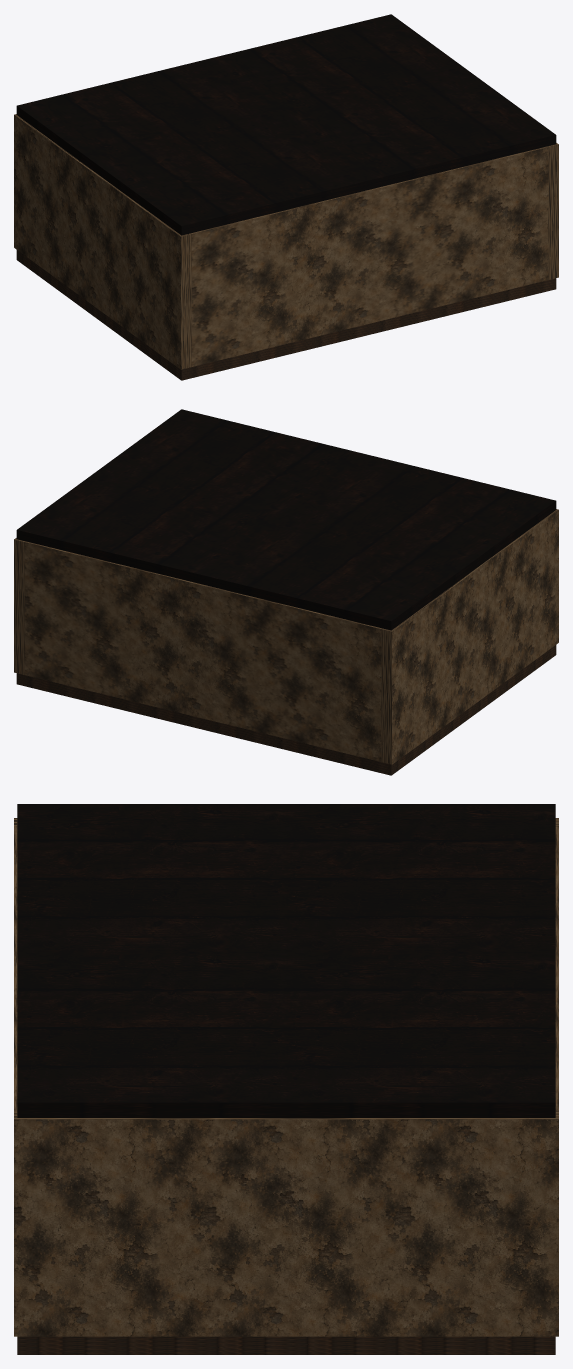
The picture shows the model from 3 angles, top to bottom: view 1: azimuth 30°, elevation 25°; view 2: azimuth 150°, elevation 25°; view 3: azimuth 270°, elevation 25°; orthographic projection. The views are drawn at different scales.
Parts seen in each view (by area): view 1: 封閉調查區_final14_D; view 2: 封閉調查區_final14_D; view 3: 封閉調查區_final14_D.
Boxes of the visible parts, box(x1,y1,x2,y2) form: 封閉調查區_final14_D: box(14, 14, 558, 380); 封閉調查區_final14_D: box(14, 409, 558, 775); 封閉調查區_final14_D: box(14, 804, 558, 1354).
Size of the model in its own units: 8.48 by 3.31 by 6.48.
Materials: 19 (15 with a texture image).
